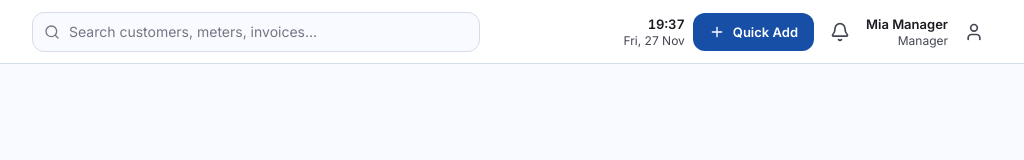
Test: search › says when nothing matches, or search is not available
Type "zzz" into the dropdown labelled "Search".
click(256, 32); type("zzz")  # box [32,12,480,52]
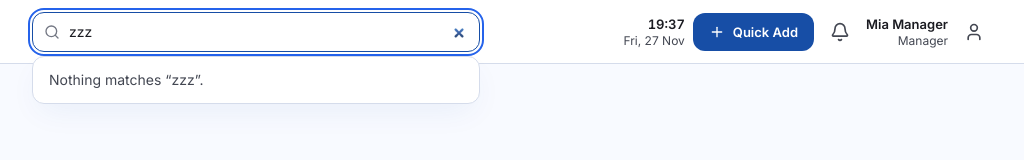
Result: the text "Nothing matches “zzz”." is shown at [49,70,204,88]
Type "q" into the dropdown named "Search".
click(256, 32); type("q")  # box [32,12,480,52]
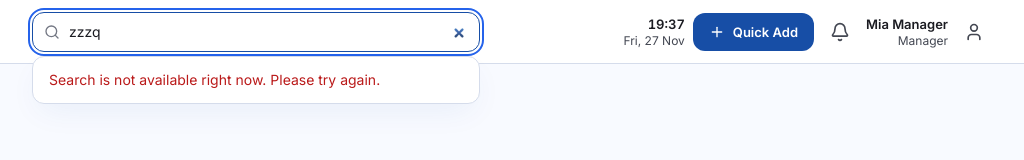
Result: the message shows "Search is not available right now" at [49,70,380,88]
